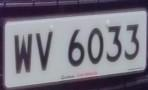0: (86, 23, 107, 70)
3: (123, 19, 143, 67), (106, 21, 125, 68)
6: (65, 24, 88, 74)
V: (34, 27, 57, 75)
W: (11, 27, 36, 80)
